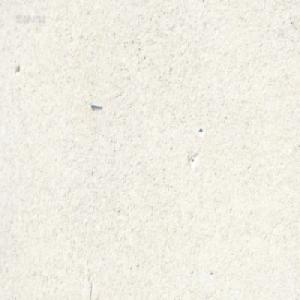Nail: (89, 100, 102, 108)
